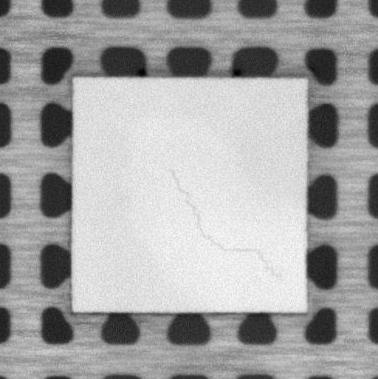DIE_CRACK: (168, 168, 279, 279)
